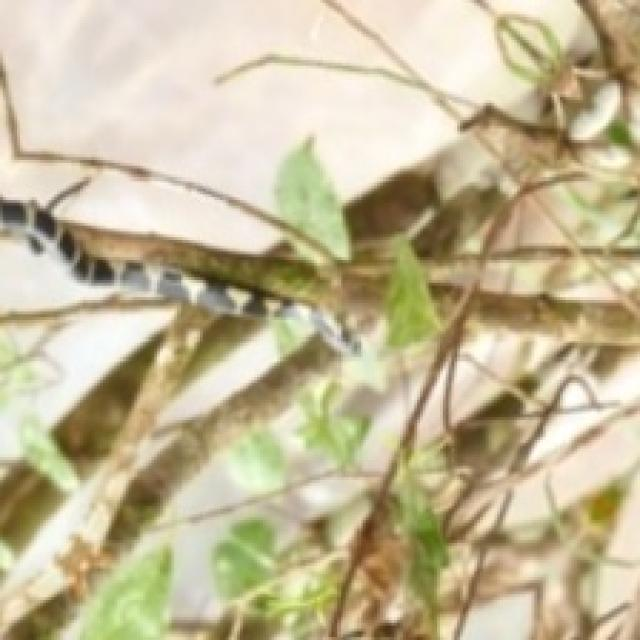king cobra: (0, 60, 346, 294), (0, 177, 357, 349), (314, 294, 354, 346)
